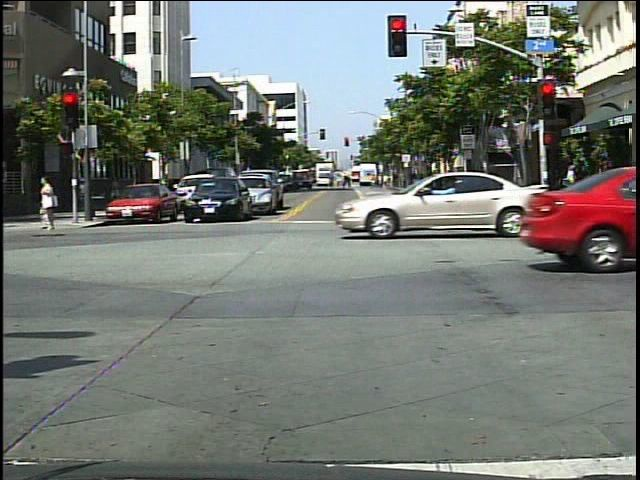person: (34, 171, 66, 235), (561, 161, 583, 212)
